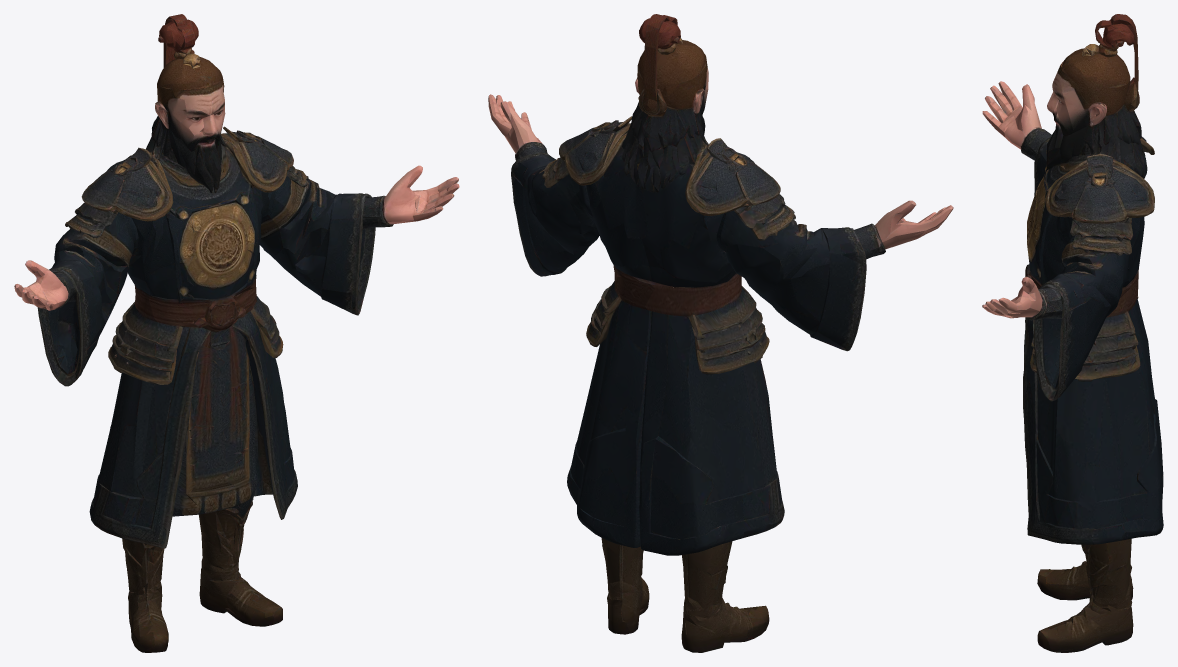
Rendered from char_X20_o-ma-nhi.glb.
3 renders of one model, left to right at view 1: azimuth 30°, elevation 25°; view 2: azimuth 150°, elevation 25°; view 3: azimuth 270°, elevation 25°, orthographic. The views are drawn at different scales.
Size of the model in its own units: 1.48 by 1.9 by 0.5178.
1 material, 1 textured.
